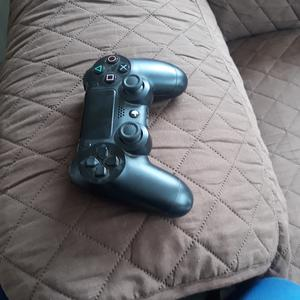controller: (68, 55, 193, 216)
